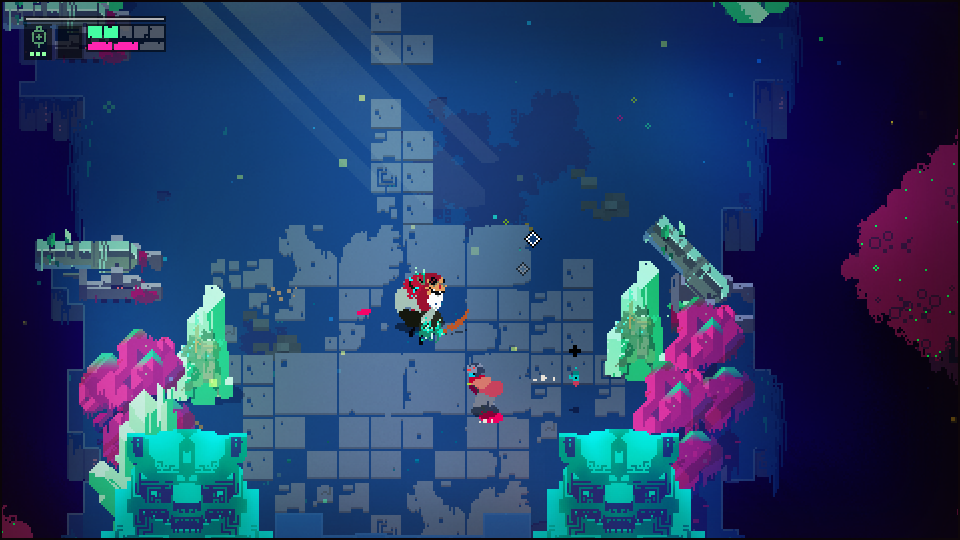hanged_man: (390, 267, 470, 343)
player: (462, 359, 506, 414)
